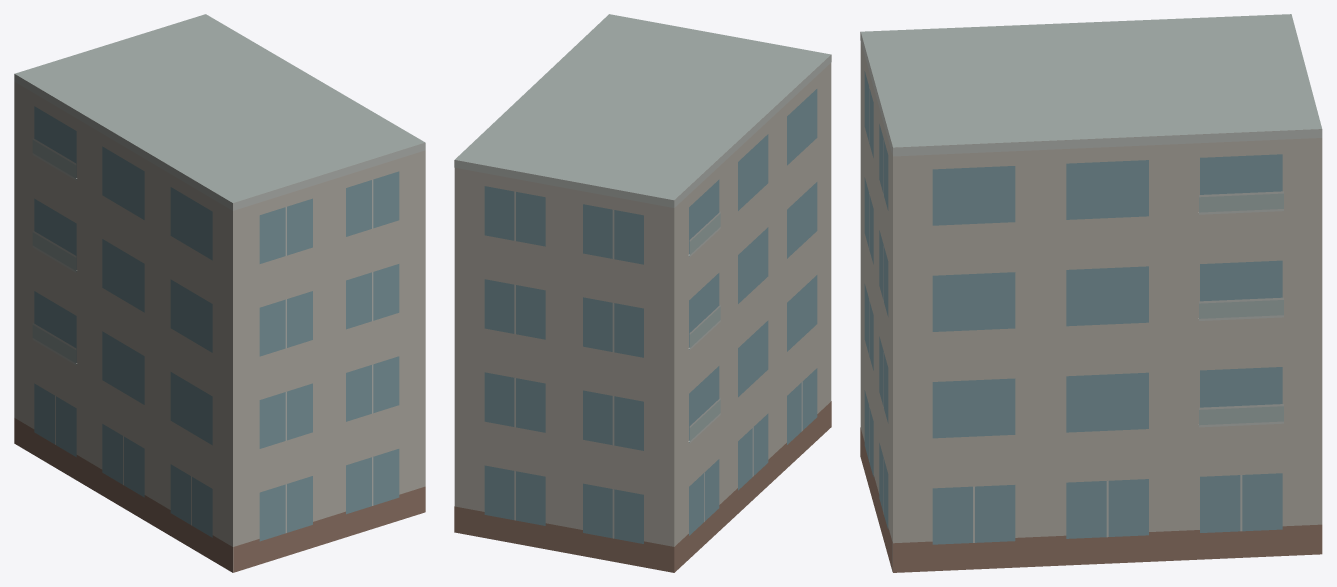
The model's file is survey-upis-32653259.glb.
The picture shows the model from 3 angles, left to right: view 1: azimuth 30°, elevation 25°; view 2: azimuth 150°, elevation 25°; view 3: azimuth 270°, elevation 25°; orthographic projection. The views are drawn at different scales.
Visible parts, largest first — view 1: survey-upis-32653259.tmp; view 2: survey-upis-32653259.tmp; view 3: survey-upis-32653259.tmp.
Part boxes in pixels (x1,y1,x2,y2): survey-upis-32653259.tmp: [14, 14, 425, 572]; survey-upis-32653259.tmp: [454, 14, 831, 572]; survey-upis-32653259.tmp: [860, 14, 1322, 572].
Bounding box in the file's own units: 7.82 × 11.6 × 11.42.
